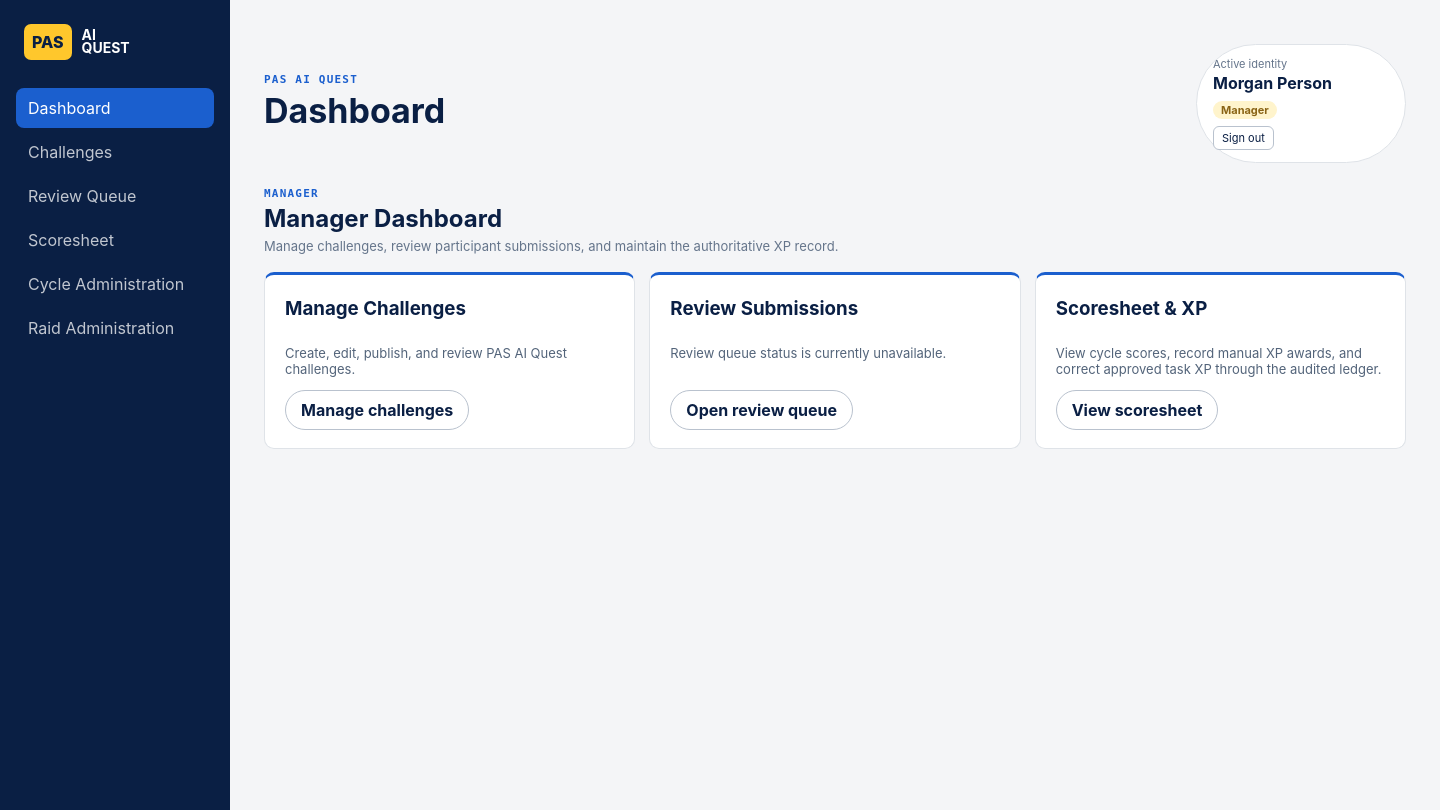
it: guarded authentication recovery › propagates feature 403 without clearing the authenticated profile or redirecting
Expected: the heading "Manager Dashboard" is shown, [264,204,502,233]
Click the button "Review Queue" at (115,196), box [16,176,214,216]
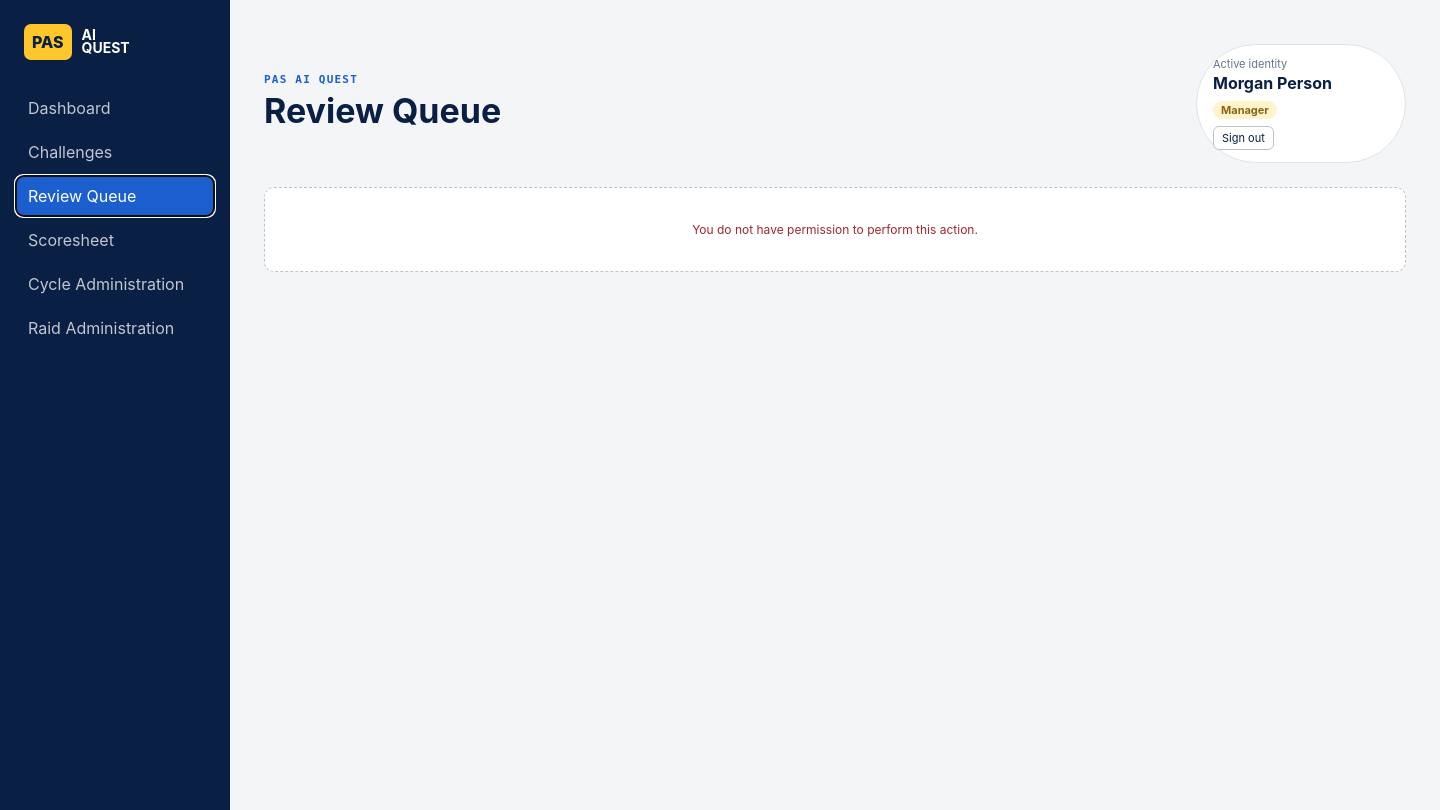
Expected: the text "Morgan Person" is shown, [1213,73,1332,93]
Expected: the message reads "You do not have permission to perform this action.", [692,222,978,237]
